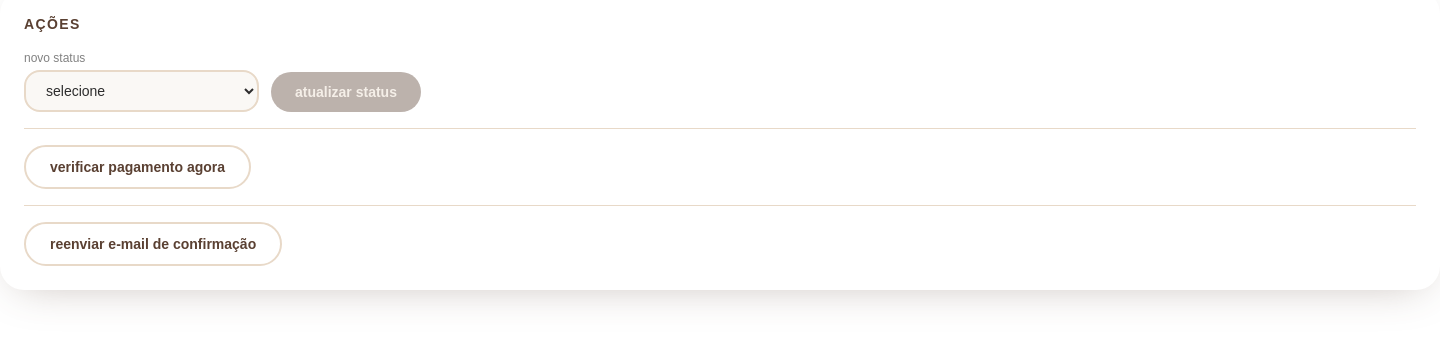
Test: OrderActions — verificar pagamento › verifica e mostra o status retornado
Click the button "verificar pagamento agora".
click(138, 167)  # box [24, 145, 251, 189]
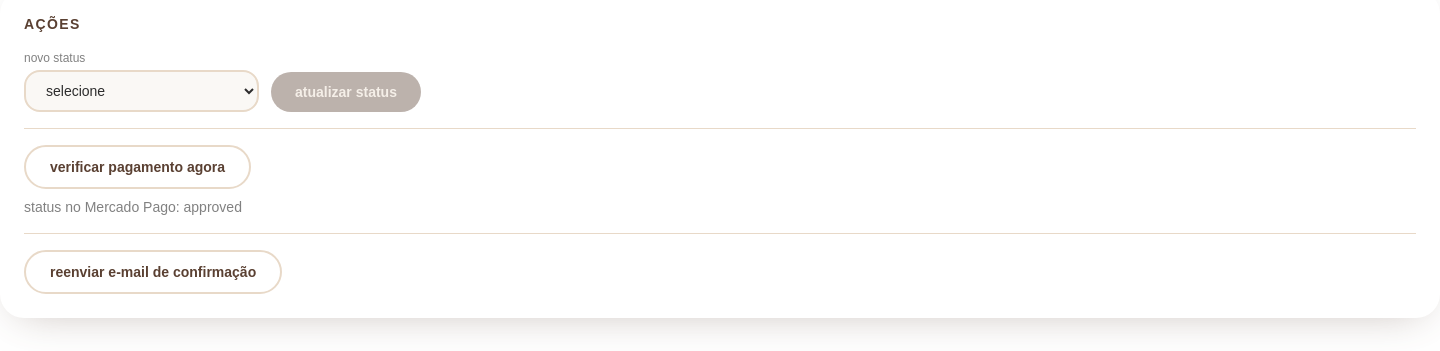
Check: the text "status no Mercado Pago: approved" is shown, box [24, 199, 242, 215]
